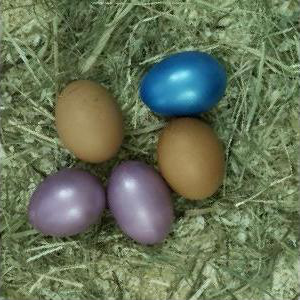egg: (54, 79, 124, 164), (139, 52, 227, 116), (157, 116, 224, 200), (27, 168, 107, 237), (108, 161, 174, 244)
